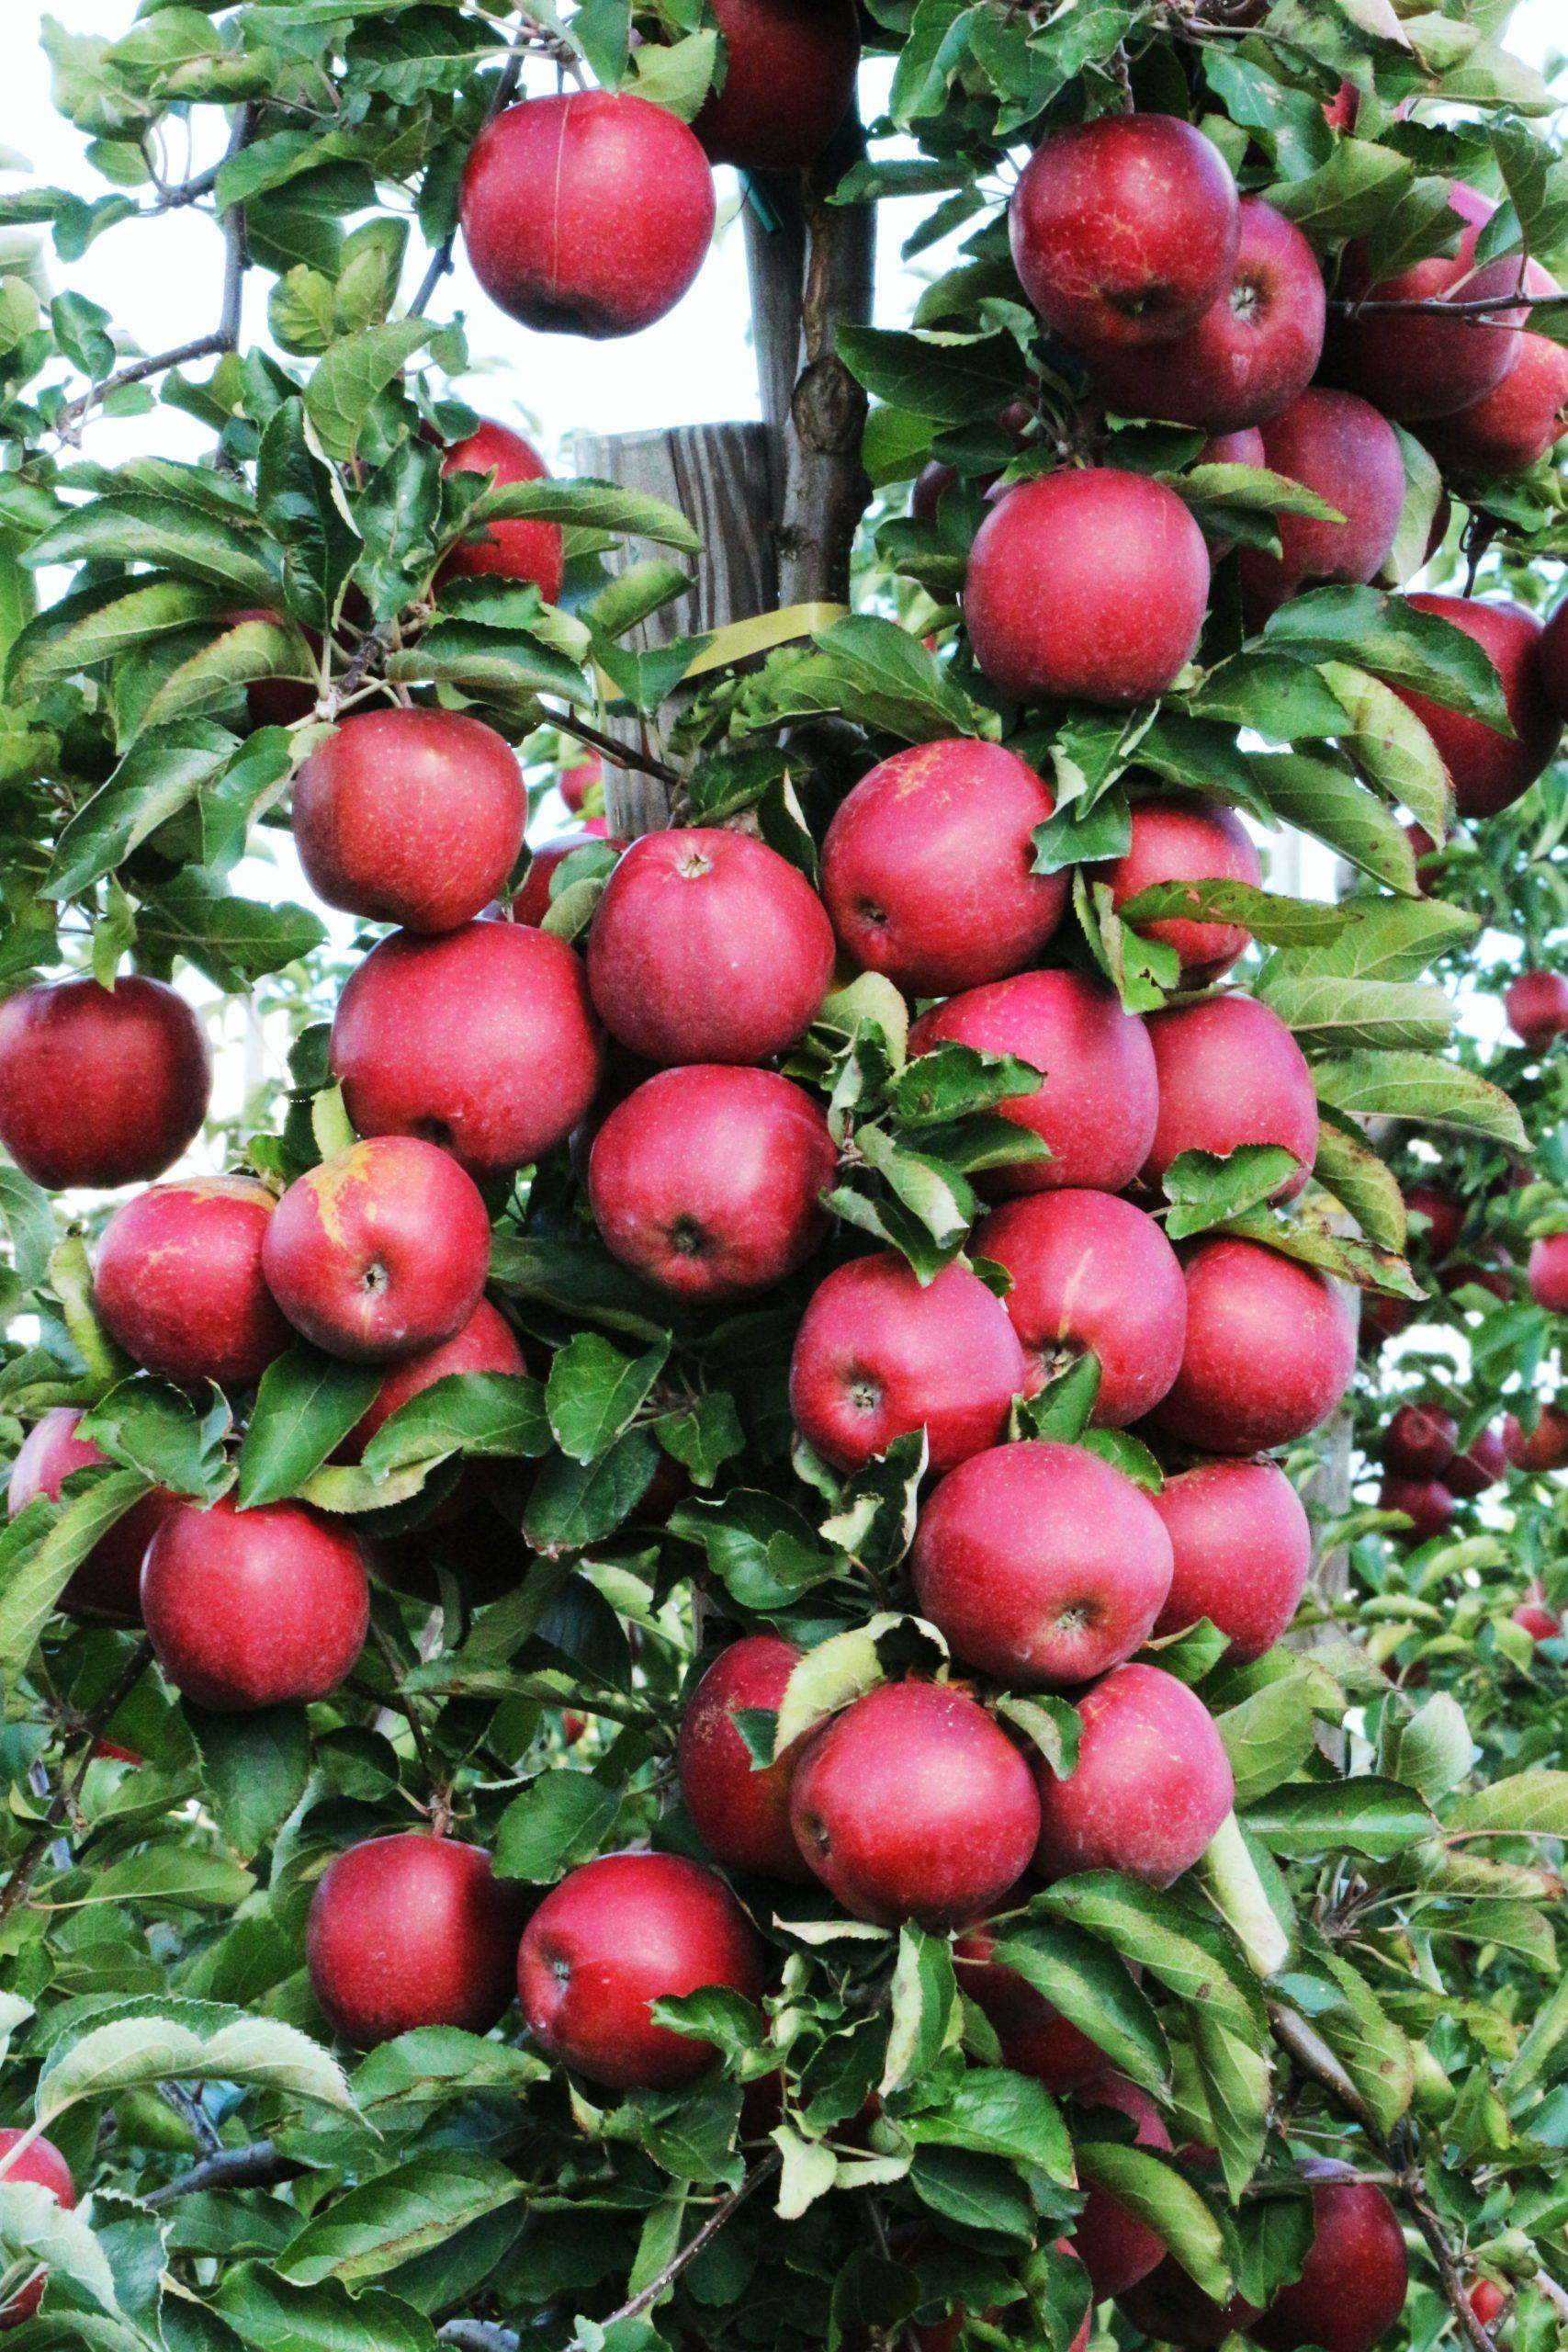apple: (453, 89, 716, 341), (334, 922, 600, 1171), (816, 737, 1062, 1001), (1004, 108, 1248, 376), (579, 824, 835, 1078), (910, 1449, 1171, 1685), (961, 462, 1207, 709), (518, 1853, 770, 2093), (788, 1690, 1043, 1927), (1073, 2166, 1403, 2348), (586, 1062, 843, 1290), (912, 964, 1158, 1200), (786, 1248, 1025, 1482), (963, 1185, 1185, 1426), (291, 707, 514, 941), (133, 1505, 376, 1710), (269, 1130, 494, 1351), (304, 1830, 525, 2051), (2, 978, 208, 1207), (1036, 1662, 1236, 1899), (1160, 1241, 1354, 1456), (1346, 177, 1514, 395), (1136, 997, 1319, 1190), (89, 1188, 266, 1375), (1155, 1459, 1314, 1664), (1101, 801, 1260, 973), (1269, 2170, 1409, 2350)
